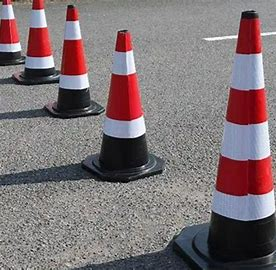traffic_cone: (179, 5, 276, 270), (87, 25, 170, 177), (53, 2, 107, 119), (18, 1, 65, 88), (1, 1, 28, 68)
